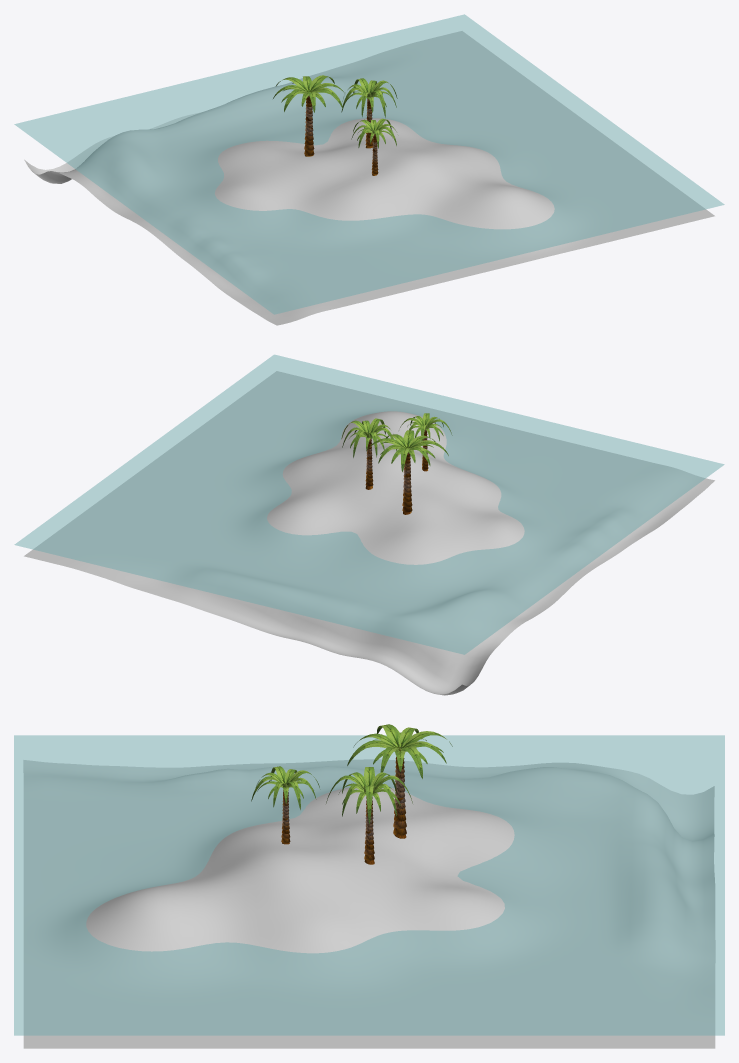
Rendered from island.fbx.
3 views of the same model, one above another, from view 1: azimuth 30°, elevation 25°; view 2: azimuth 150°, elevation 25°; view 3: azimuth 270°, elevation 25° (orthographic). The views are drawn at different scales.
Parts seen in each view (by area): view 1: Plane_001, Plane, Plane_002, Plane_014, Plane_003; view 2: Plane_001, Plane, Plane_002, Plane_014, Plane_003; view 3: Plane_001, Plane, Plane_002, Plane_014, Plane_003, Cylinder_001.
Part boxes in pixels (x1,y1,x2,y2): Plane_001: (24,31,714,325); Plane: (14,14,724,314); Plane_002: (273,75,344,112); Plane_014: (341,78,397,117); Plane_003: (351,118,396,148); Plane_001: (24,371,714,695); Plane: (14,354,724,654); Plane_002: (366,430,448,471); Plane_014: (341,418,396,457); Plane_003: (400,413,452,441); Plane_001: (23,759,715,1048); Plane: (14,735,724,1035); Plane_002: (347,724,452,778); Plane_014: (326,767,412,824); Plane_003: (251,766,319,809); Cylinder_001: (393,747,406,838).
Bounding box in the file's own units: 29.59 × 8.74 × 29.59.
